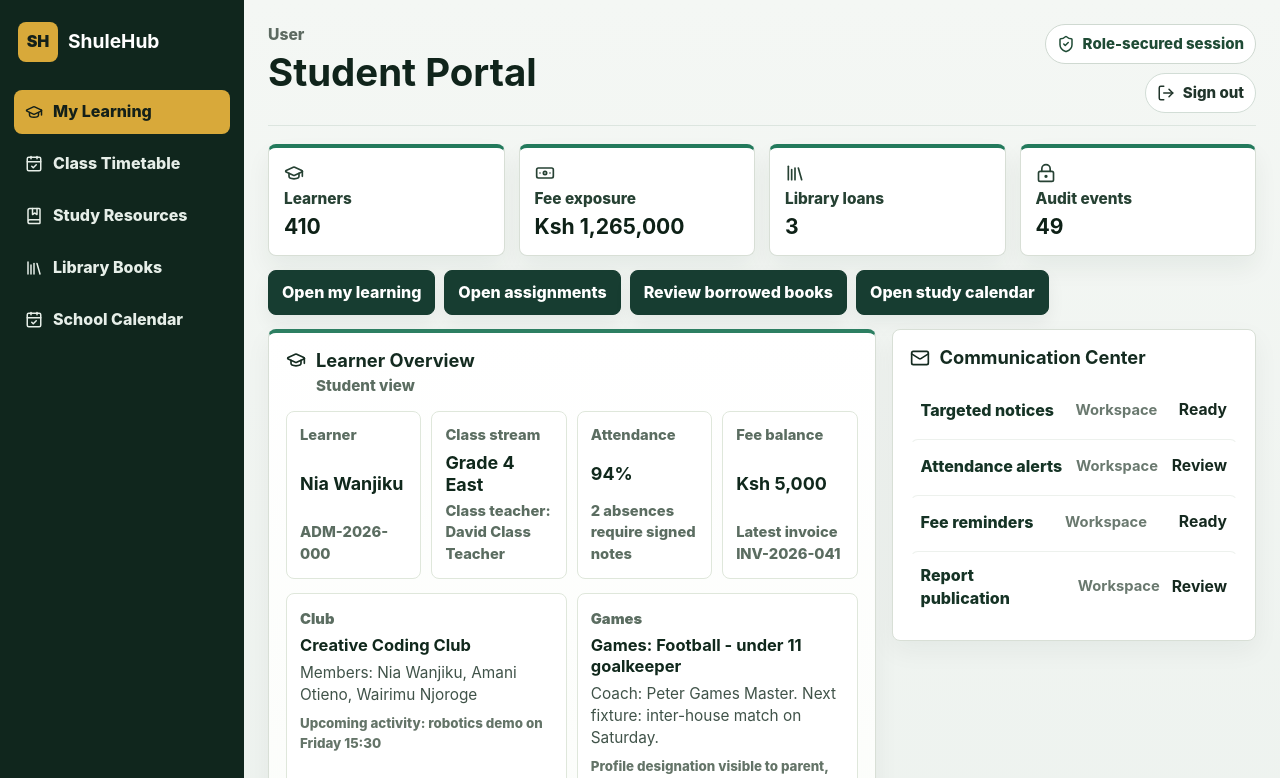
Test case: App › resources include books past papers and revision material with clickable workflows
The width and height of the screenshot is (1280, 778).
Click the button "Study Resources" at (122, 216), box 14,194 -> 230,238
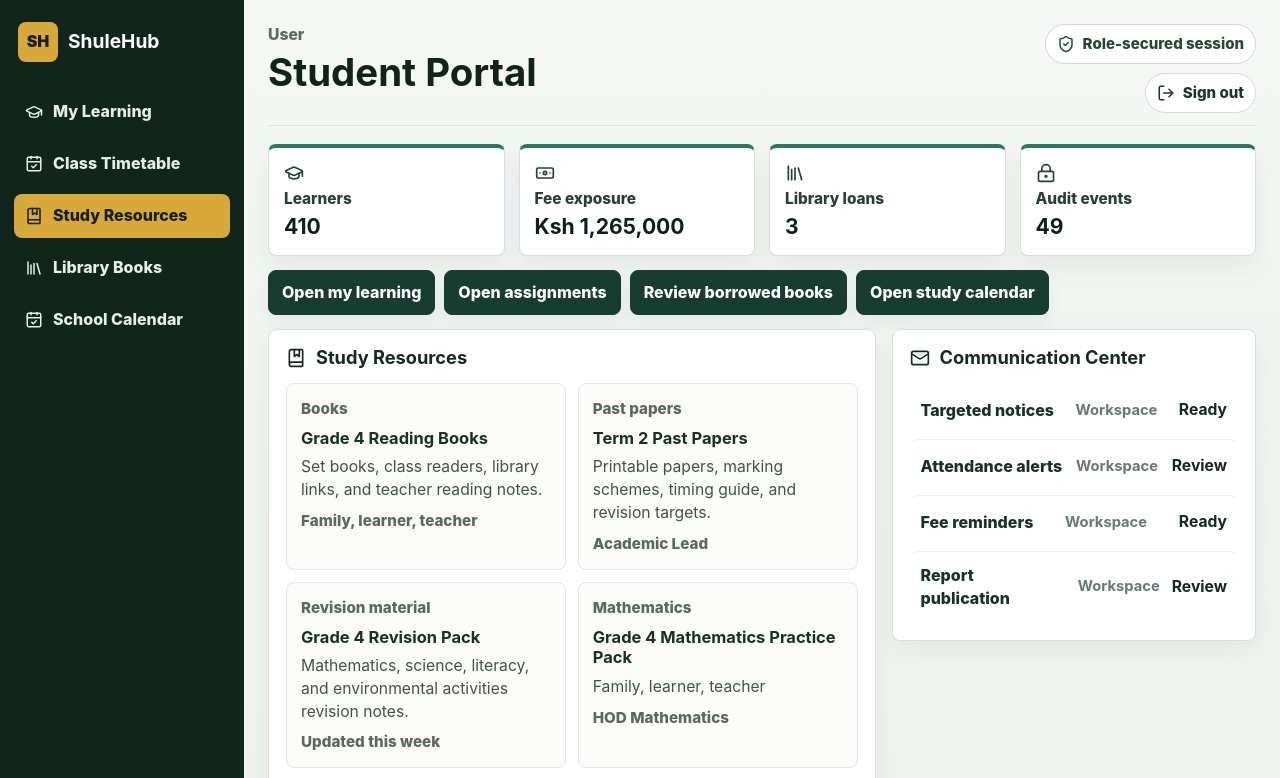
Expected: the text "Books" is shown, 301,399 -> 348,418
Expected: the text "Past papers" is shown, 593,399 -> 682,418
Expected: the text "Revision material" is shown, 301,598 -> 430,616
Click the button with aria-label "Open Grade 4 Revision Pack" at (426, 675), box 286,582 -> 566,768
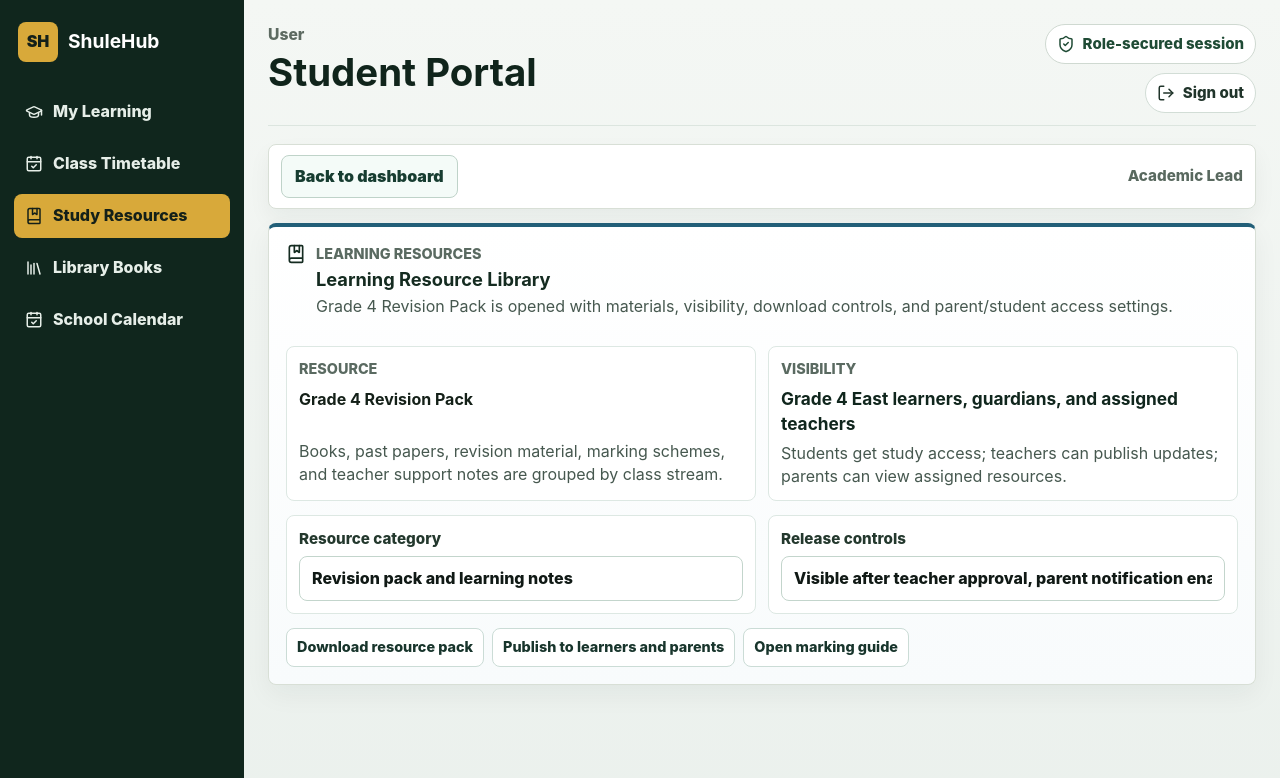
Expected: the heading "Grade 4 Revision Pack" is shown, 299,388 -> 473,408
